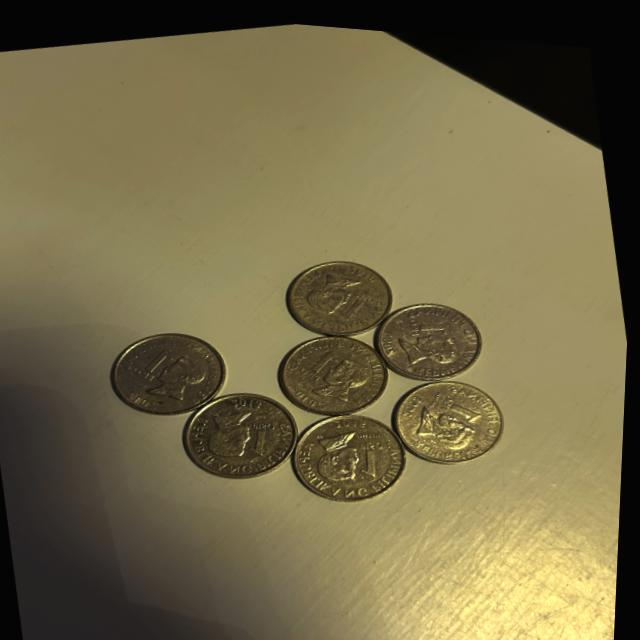1_Old_Front: (239, 402, 292, 458), (427, 379, 487, 426), (293, 335, 347, 385), (129, 343, 187, 388), (335, 277, 385, 326), (352, 432, 395, 480), (403, 307, 456, 344)
